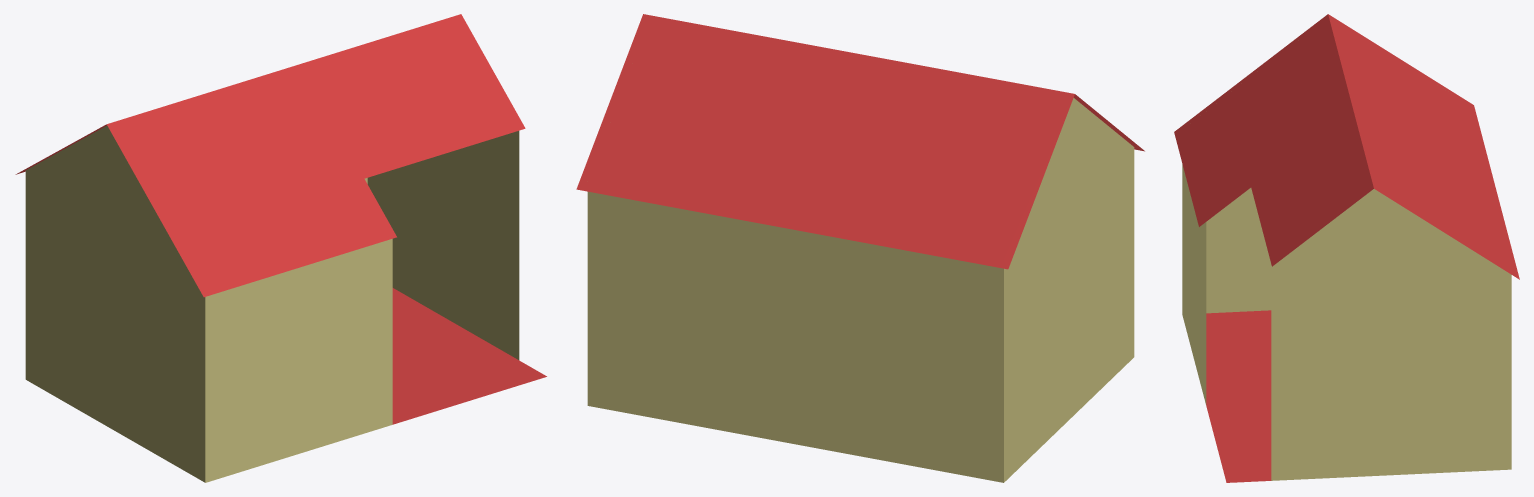
3 views of the same model, side by side, from view 1: azimuth 30°, elevation 25°; view 2: azimuth 150°, elevation 25°; view 3: azimuth 270°, elevation 25° (orthographic). The views are drawn at different scales.
Bounding box in the file's own units: 14.82 × 11.62 × 10.77.
